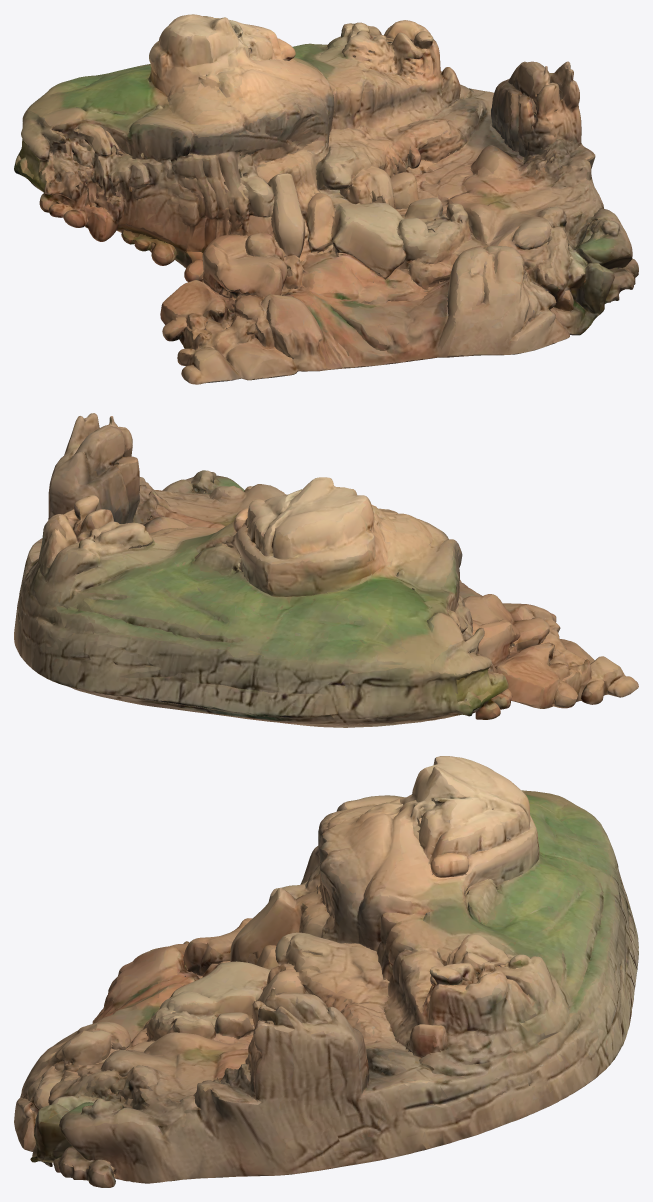
The model's file is alpine-shrub-v5.glb.
The picture shows the model from 3 angles, top to bottom: view 1: azimuth 30°, elevation 25°; view 2: azimuth 150°, elevation 25°; view 3: azimuth 270°, elevation 25°; orthographic projection. The views are drawn at different scales.
Parts seen in each view (by area): view 1: geometry_0; view 2: geometry_0; view 3: geometry_0.
Boxes of the visible parts, left/top/right/bottom form: geometry_0: left=14, top=14, right=638, bottom=384; geometry_0: left=14, top=413, right=638, bottom=727; geometry_0: left=14, top=756, right=638, bottom=1187.
Size of the model in its own units: 1.2 by 0.5994 by 1.19.
Materials: 1 (1 with a texture image).
